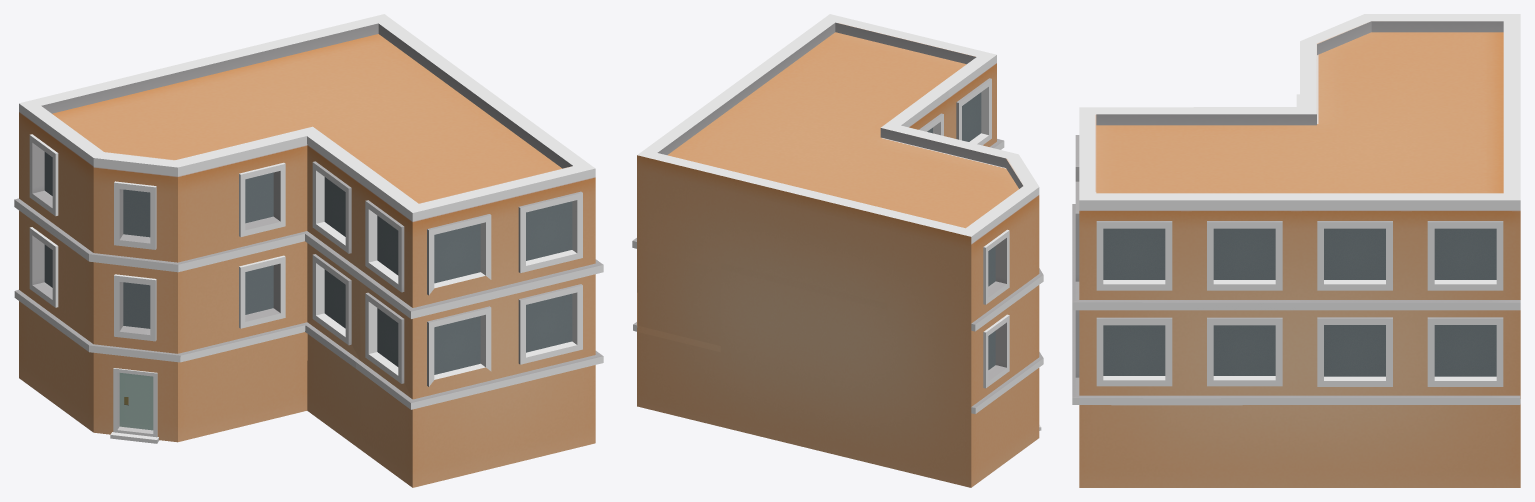
The model's file is House_06_UV_Color.fbx.
3 renders of one model, left to right at view 1: azimuth 30°, elevation 25°; view 2: azimuth 150°, elevation 25°; view 3: azimuth 270°, elevation 25°, orthographic. The views are drawn at different scales.
Parts seen in each view (by area): view 1: House_06_UV_Color; view 2: House_06_UV_Color; view 3: House_06_UV_Color.
Boxes of the visible parts, x1,y1,x2,y2 form: House_06_UV_Color: [14, 14, 603, 487]; House_06_UV_Color: [632, 14, 1043, 487]; House_06_UV_Color: [1072, 14, 1520, 487].
Bounding box in the file's own units: 2265 × 1589 × 2241.
